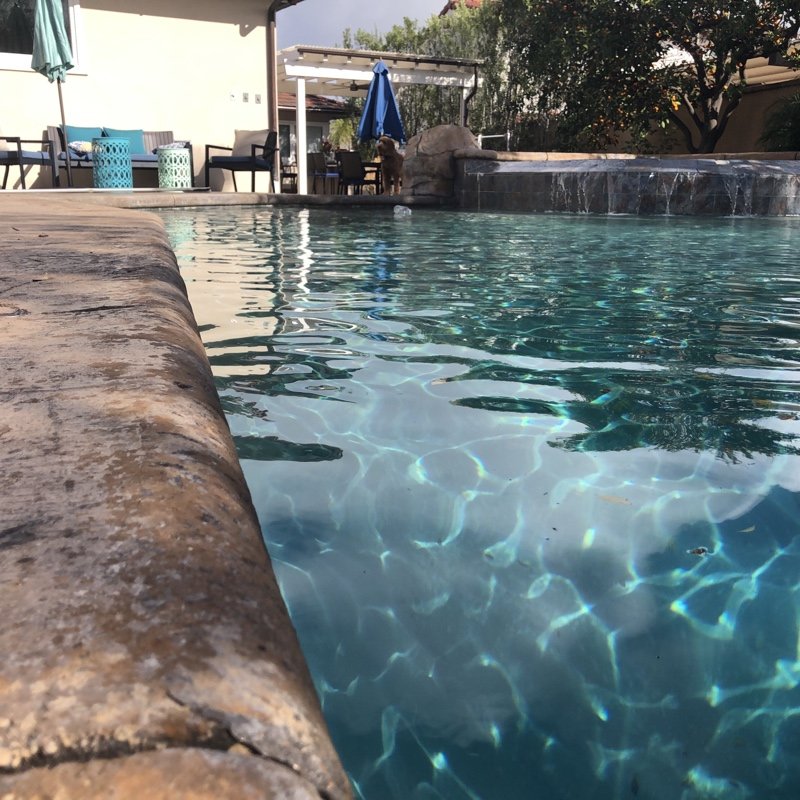Plastic Bottle: (392, 206, 411, 220)
